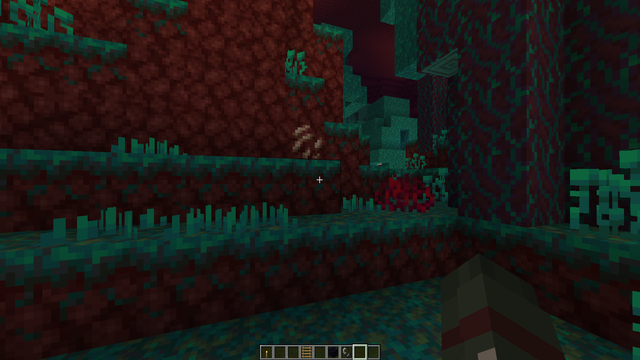quartz: (287, 120, 327, 169)
